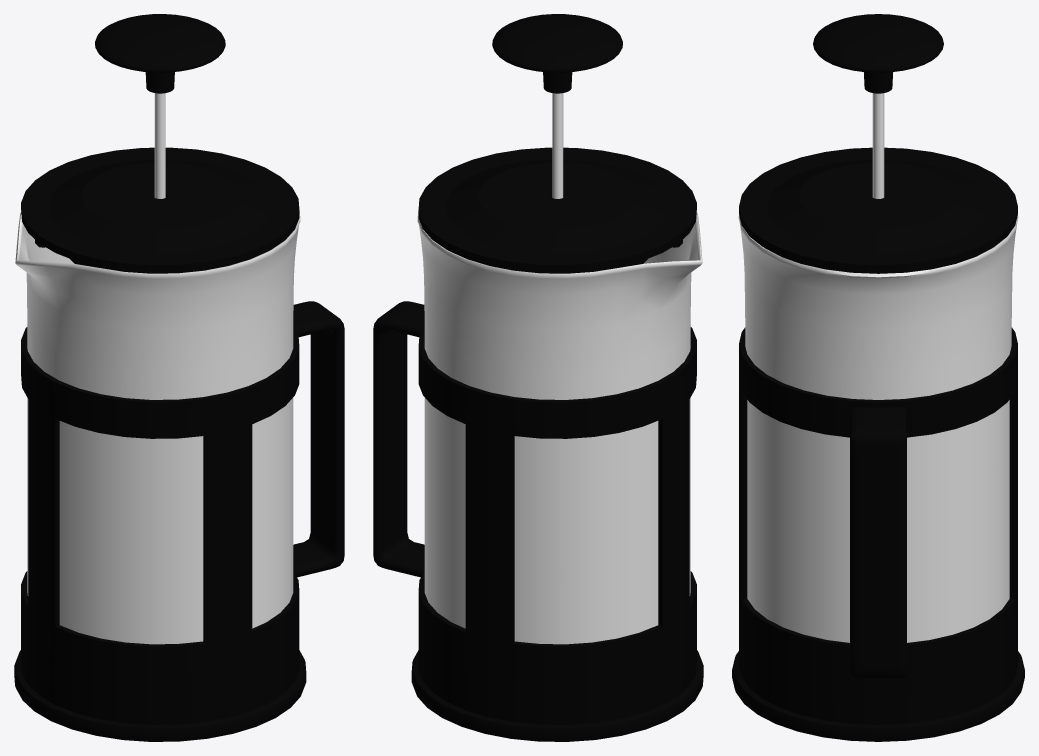
File: french_press_coffee_brewing_equipment.glb
3 renders of one model, left to right at view 1: azimuth 30°, elevation 25°; view 2: azimuth 150°, elevation 25°; view 3: azimuth 270°, elevation 25°, orthographic.
Parts seen in each view (by area): view 1: Tea_jug_export; view 2: Tea_jug_export; view 3: Tea_jug_export.
Boxes of the visible parts, <box> form: Tea_jug_export: <box>14,14,344,741</box>; Tea_jug_export: <box>373,14,703,741</box>; Tea_jug_export: <box>732,14,1024,741</box>.
Size of the model in its own units: 0.1288 by 0.252 by 0.103.
Materials: 6 (4 with a texture image).
